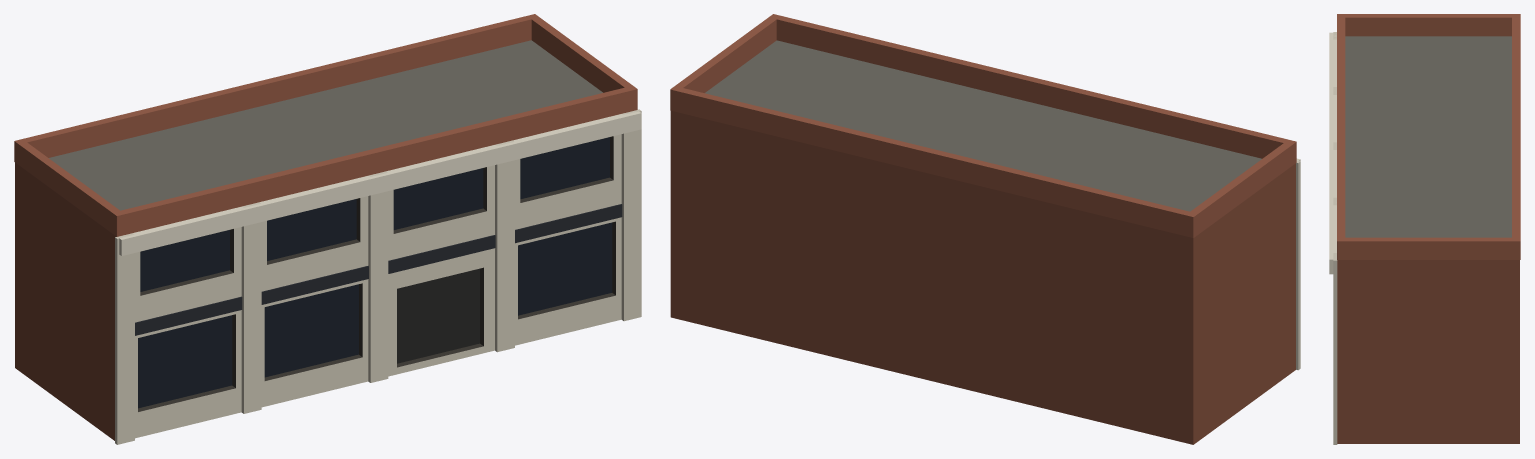
File: bank-1913-b17914.glb
3 renders of one model, left to right at view 1: azimuth 30°, elevation 25°; view 2: azimuth 150°, elevation 25°; view 3: azimuth 270°, elevation 25°, orthographic. The views are drawn at different scales.
Parts seen in each view (by area): view 1: kit-bank-1913-b17914; view 2: kit-bank-1913-b17914; view 3: kit-bank-1913-b17914.
Part boxes in pixels (x1,y1,x2,y2): kit-bank-1913-b17914: [14, 14, 641, 444]; kit-bank-1913-b17914: [670, 14, 1300, 444]; kit-bank-1913-b17914: [1329, 14, 1520, 444].
Size of the model in its own units: 23.7 by 9.8 by 8.37.
